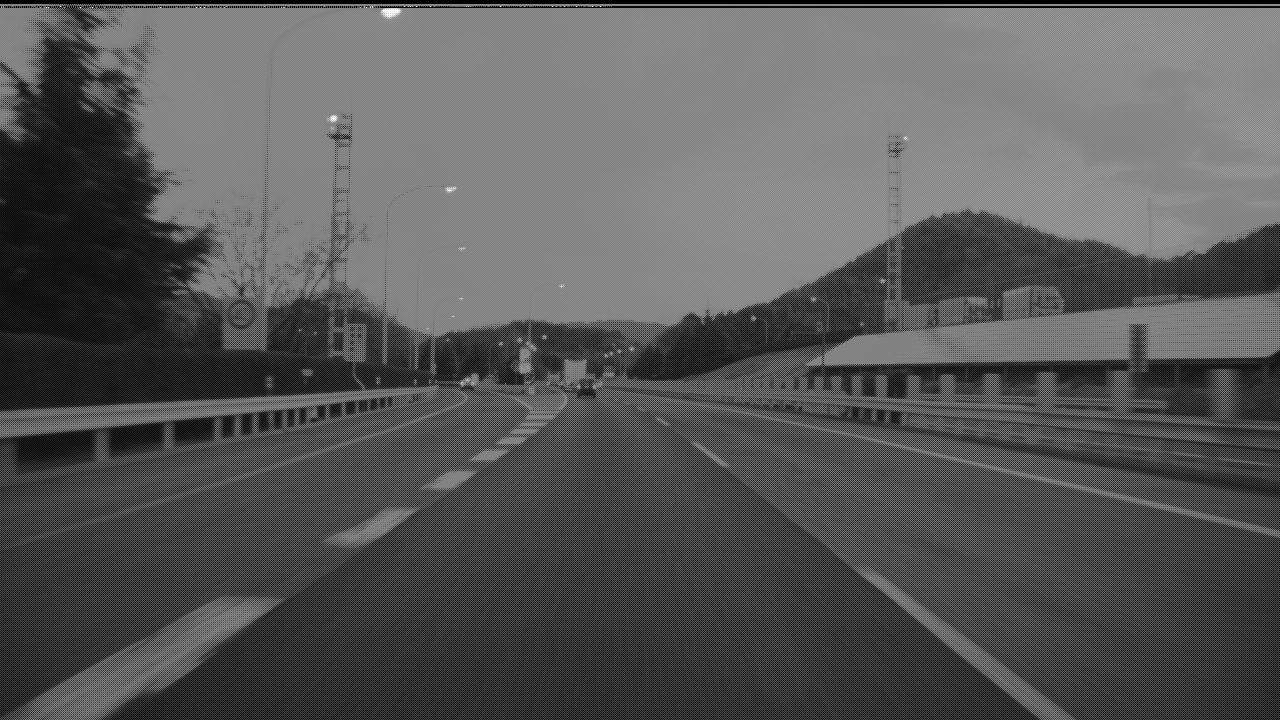pole: (1005, 43, 1023, 349), (886, 199, 899, 363)
